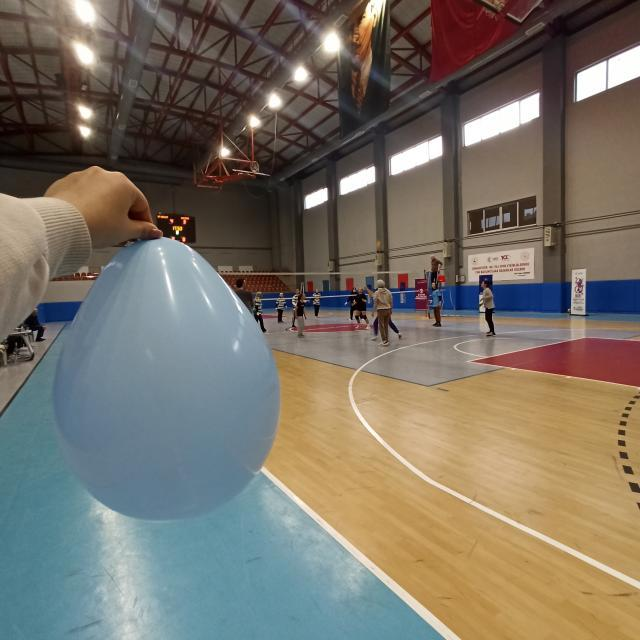balloon: (54, 236, 283, 523)
